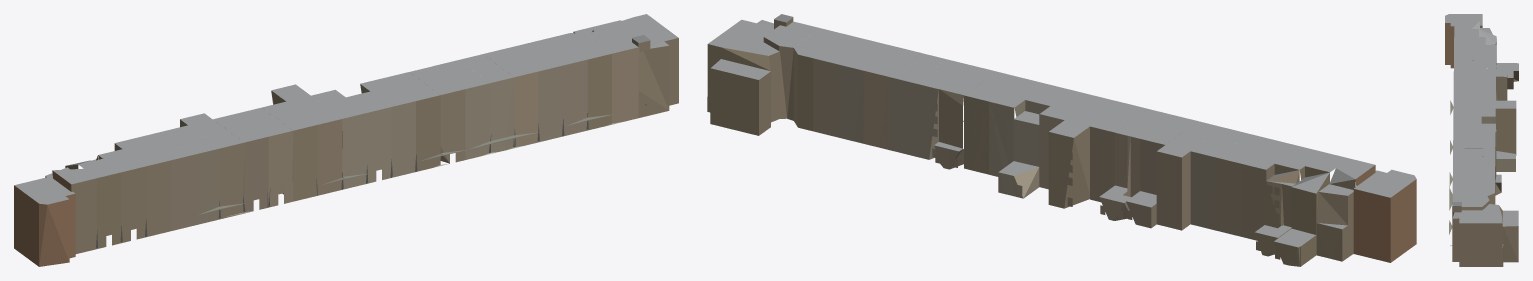
Rendered from chunk-face-evertsen-94-142.lod2.glb.
3 views of the same model, side by side, from view 1: azimuth 30°, elevation 25°; view 2: azimuth 150°, elevation 25°; view 3: azimuth 270°, elevation 25° (orthographic). The views are drawn at different scales.
Visible parts, largest first — view 1: lod2; view 2: lod2; view 3: lod2.
Boxes of the visible parts, box(x1,y1,x2,y2) form: lod2: box(14, 14, 678, 266); lod2: box(707, 14, 1416, 266); lod2: box(1445, 14, 1518, 266).
Size of the model in its own units: 159 by 17.59 by 23.5.
